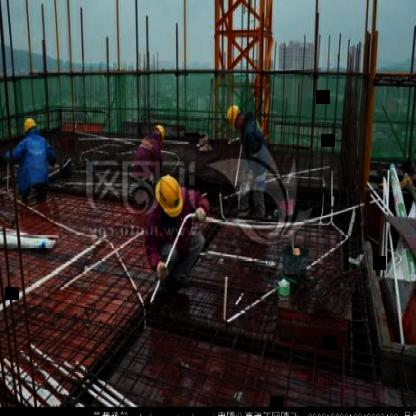helmet: (154, 170, 182, 220), (225, 104, 246, 132), (150, 123, 167, 143), (22, 117, 38, 138)
